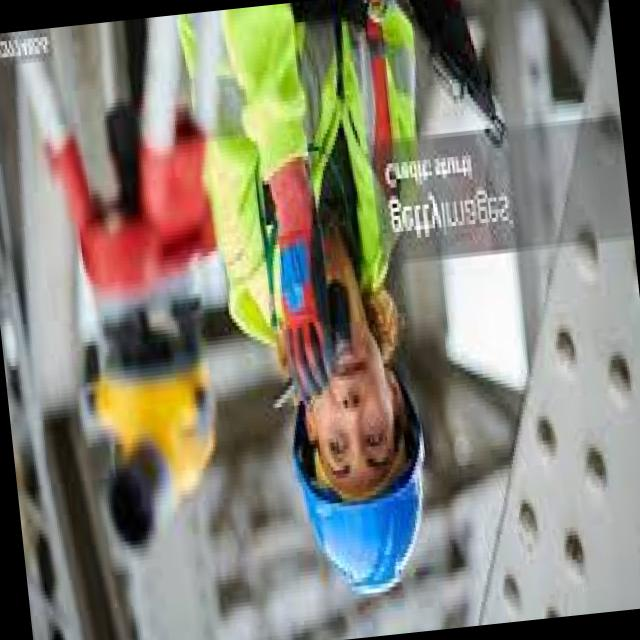gloved: (260, 158, 340, 409)
